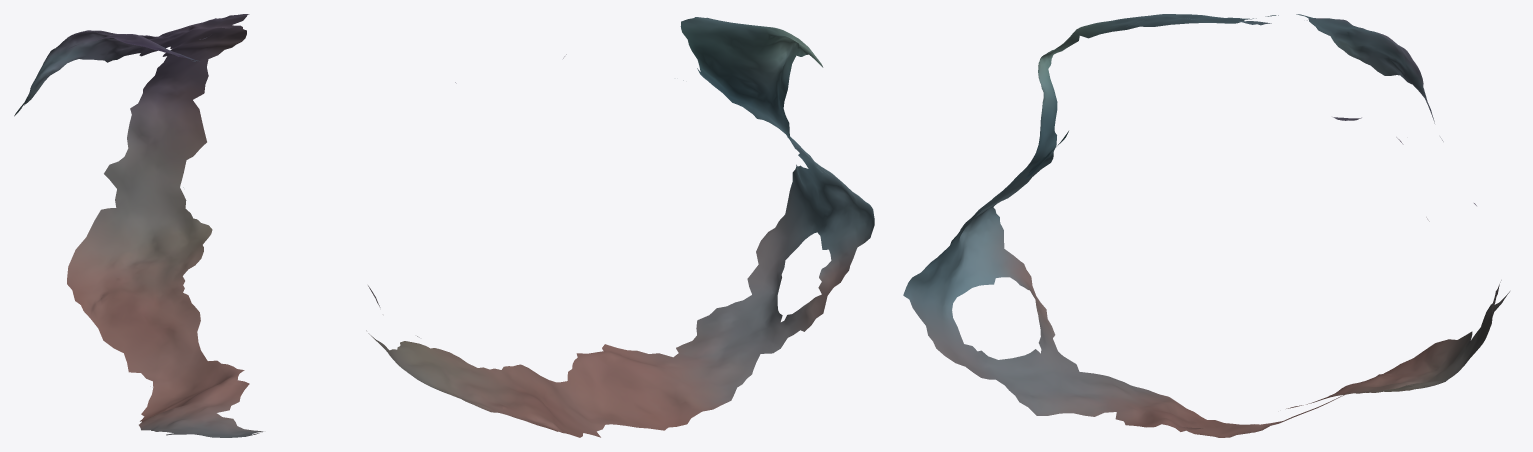
Rendered from LODS_Cloud_global_5.glb.
The picture shows the model from 3 angles, left to right: view 1: azimuth 30°, elevation 25°; view 2: azimuth 150°, elevation 25°; view 3: azimuth 270°, elevation 25°; orthographic projection. The views are drawn at different scales.
Parts seen in each view (by area): view 1: LOD0; view 2: LOD0; view 3: LOD0.
Part boxes in pixels (box(x1,y1,x2,y2)): LOD0: box(14, 14, 263, 437); LOD0: box(366, 17, 874, 437); LOD0: box(903, 14, 1509, 437).
Size of what is drawn, in the model's own units: 0.2621 by 0.3029 by 0.4176.
